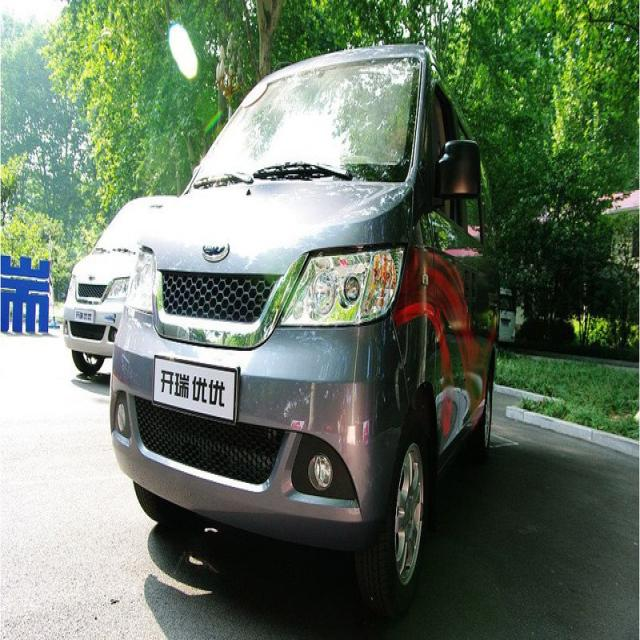front_bumper: (108, 304, 410, 536)
front_glass: (192, 53, 422, 187)
front_left_side_door: (429, 87, 472, 467)
front_left_side_light: (280, 242, 411, 331)
front_left_side_mirror: (434, 137, 483, 198)
front_right_side_light: (124, 240, 161, 318)
wheel: (356, 425, 429, 610)
